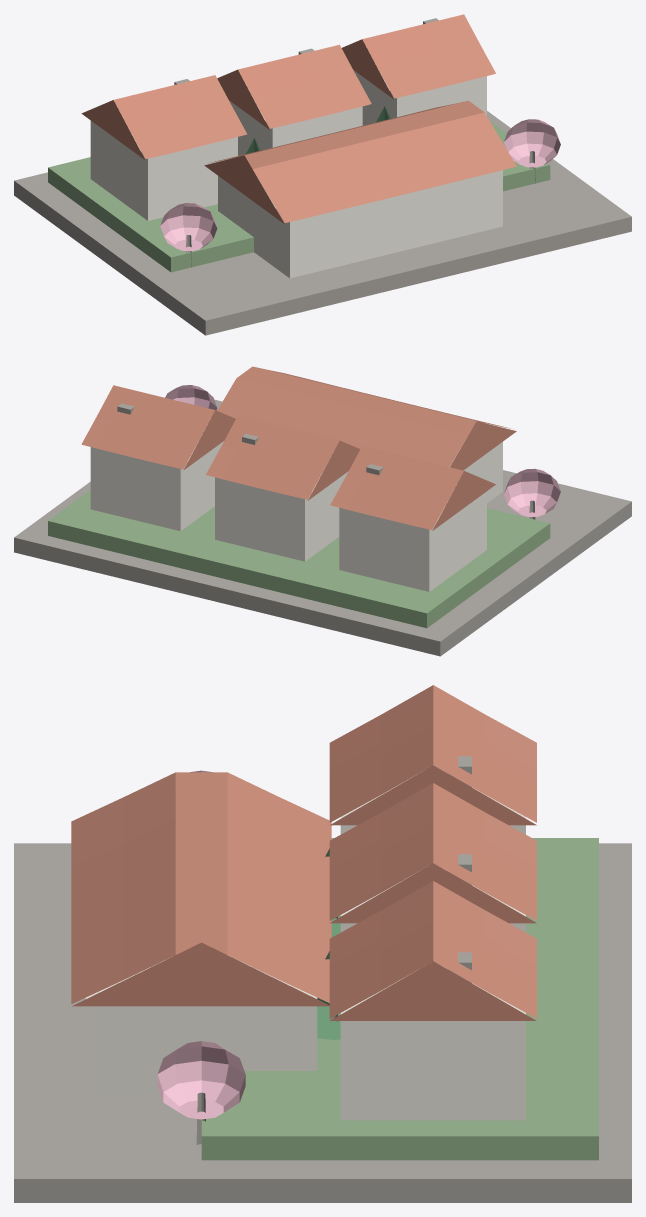
File: lm_87_cereja_hotel_resort_tuyen_lam_pine_hill_villas.glb
3 views of the same model, one above another, from view 1: azimuth 30°, elevation 25°; view 2: azimuth 150°, elevation 25°; view 3: azimuth 270°, elevation 25° (orthographic). The views are drawn at different scales.
Parts seen in each view (by area): view 1: lm_87_cereja_hotel_resort_tuyen_lam_pine_hill_villas; view 2: lm_87_cereja_hotel_resort_tuyen_lam_pine_hill_villas; view 3: lm_87_cereja_hotel_resort_tuyen_lam_pine_hill_villas.
Boxes of the visible parts, x1,y1,x2,y2 form: lm_87_cereja_hotel_resort_tuyen_lam_pine_hill_villas: [14, 14, 631, 335]; lm_87_cereja_hotel_resort_tuyen_lam_pine_hill_villas: [14, 366, 631, 656]; lm_87_cereja_hotel_resort_tuyen_lam_pine_hill_villas: [14, 685, 631, 1202].
Size of the model in its own units: 36 by 10.6 by 28.
